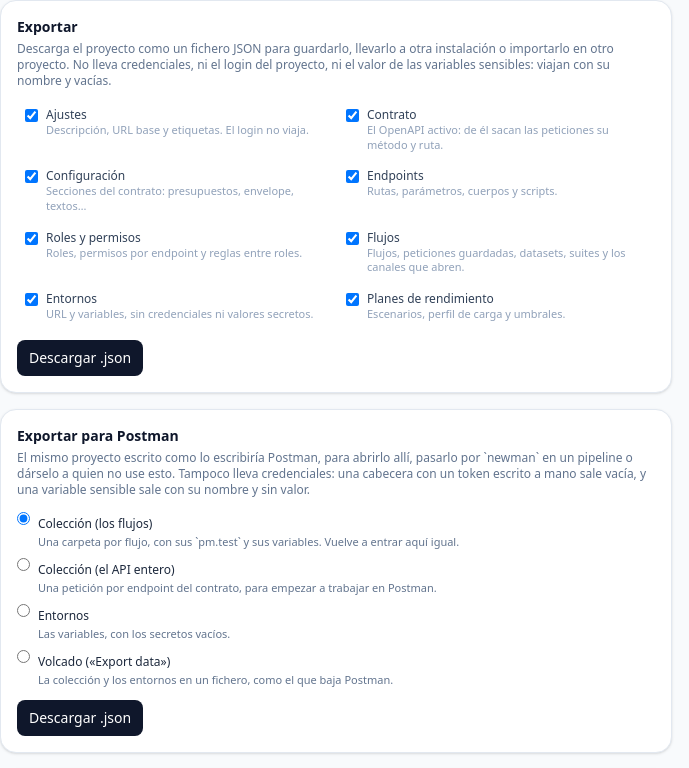
ProjectTransferPage › un fallo al exportar se enseña
The width and height of the screenshot is (689, 768).
What coordinates should you click on to do the following:
click the button "Descargar .json" below "Escenarios, perfil de carga y umbrales."
I would click on:
 (80, 358)
Its box is [17,340,143,376].
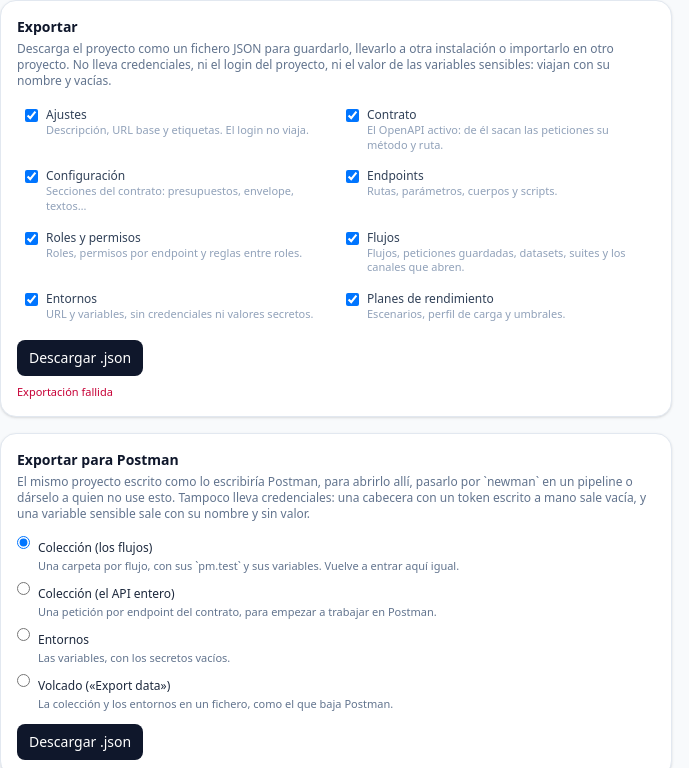
Check: the text "Exportación fallida" is shown, box [17,384,113,399]
